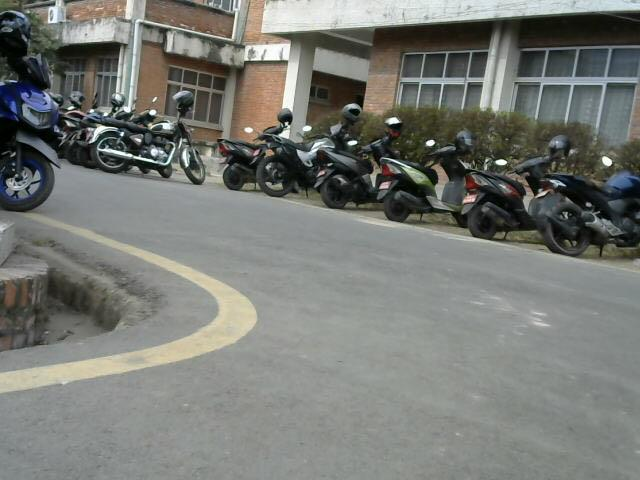Building: (55, 0, 636, 146)
Motorcycle: (212, 121, 640, 261), (0, 11, 79, 219), (61, 89, 209, 188)
Road: (0, 164, 640, 471)
